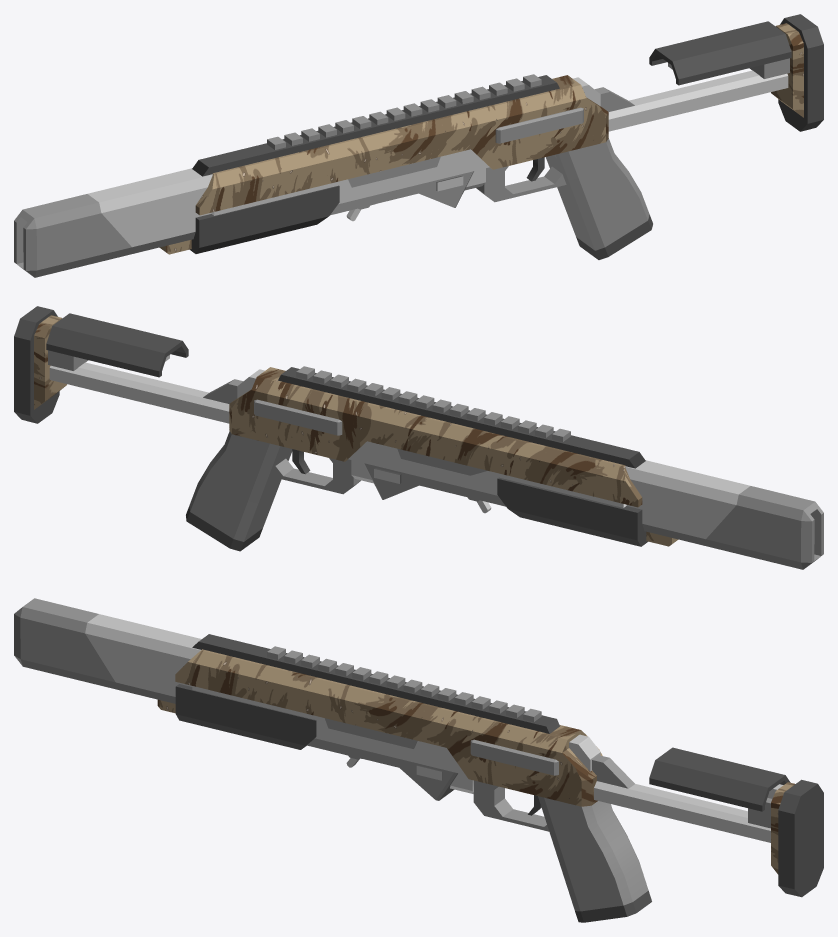
Rendered from SM_DMRA1.fbx.
3 views of the same model, one above another, from view 1: azimuth 30°, elevation 25°; view 2: azimuth 150°, elevation 25°; view 3: azimuth 330°, elevation 25° (orthographic).
Parts seen in each view (by area): view 1: SM_DMRA1; view 2: SM_DMRA1; view 3: SM_DMRA1.
Part boxes in pixels (x1,y1,x2,y2): SM_DMRA1: (14,14,823,277); SM_DMRA1: (14,306,823,569); SM_DMRA1: (14,598,823,922).
Bounding box in the file's own units: 85.48 × 19.49 × 5.5.
